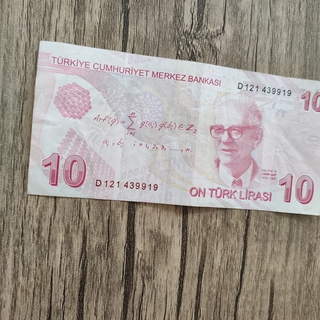10TLBack: (25, 40, 320, 220)
